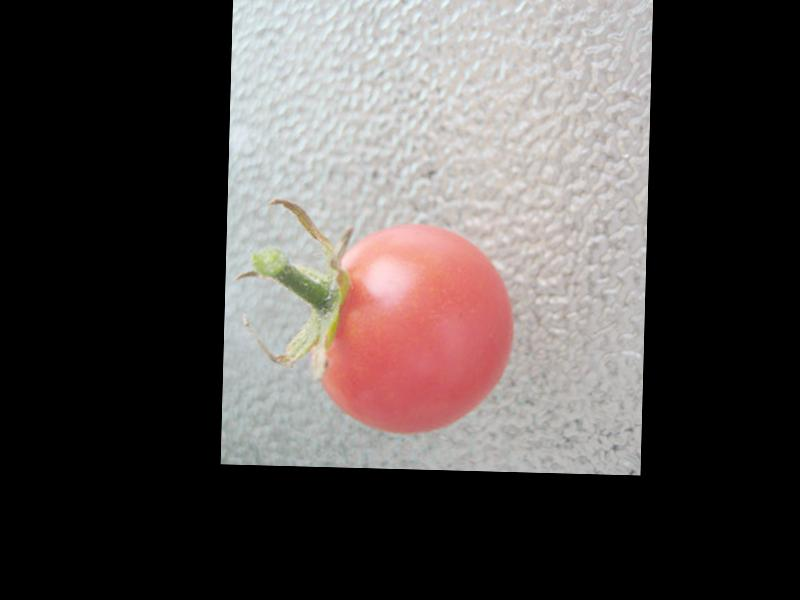Tomato: (319, 218, 517, 435)
